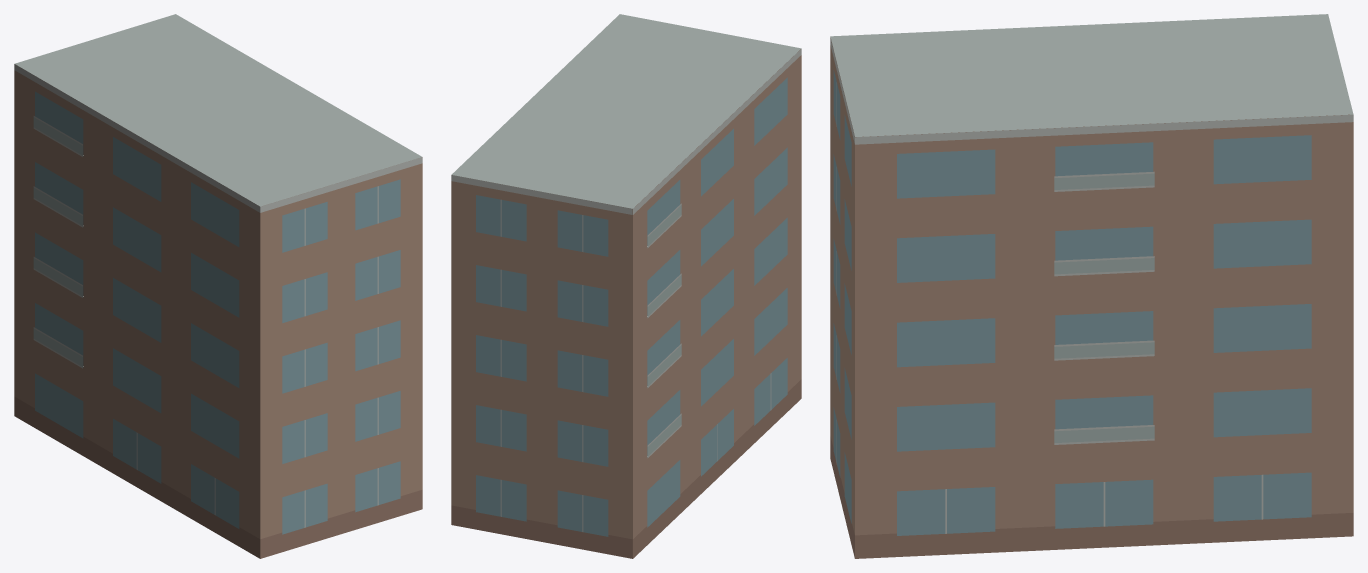
Rendered from survey-upis-32636852.glb.
3 renders of one model, left to right at view 1: azimuth 30°, elevation 25°; view 2: azimuth 150°, elevation 25°; view 3: azimuth 270°, elevation 25°, orthographic. The views are drawn at different scales.
Visible parts, largest first — view 1: survey-upis-32636852.tmp; view 2: survey-upis-32636852.tmp; view 3: survey-upis-32636852.tmp.
Boxes of the visible parts, x1,y1,x2,y2 form: survey-upis-32636852.tmp: [14, 14, 422, 558]; survey-upis-32636852.tmp: [451, 14, 801, 558]; survey-upis-32636852.tmp: [830, 14, 1353, 558].
Bounding box in the file's own units: 8.52 × 13.6 × 15.3.
